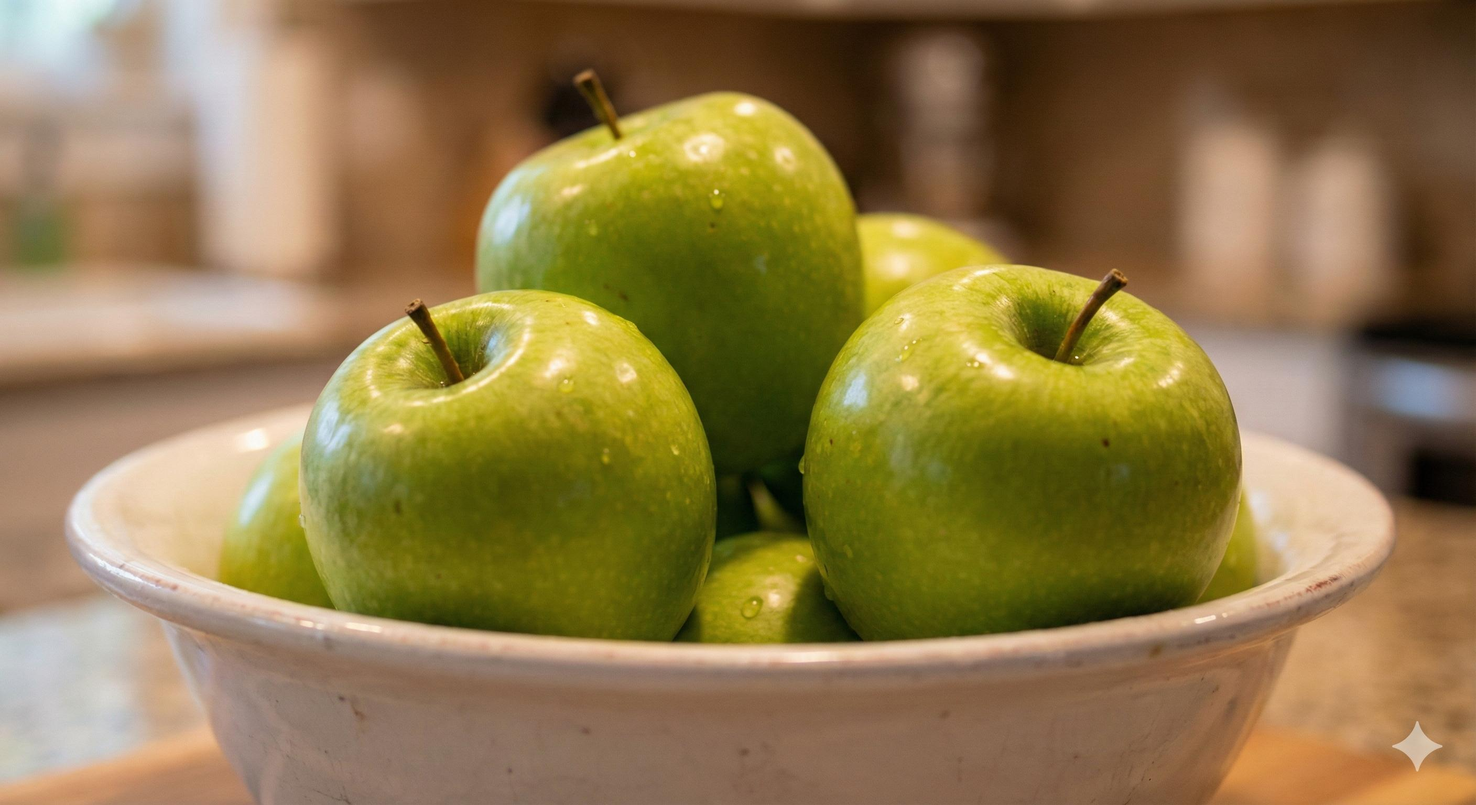apple: (810, 260, 1243, 638), (472, 67, 858, 487), (302, 289, 718, 641), (216, 424, 340, 610), (676, 529, 860, 643), (859, 210, 1006, 327)
